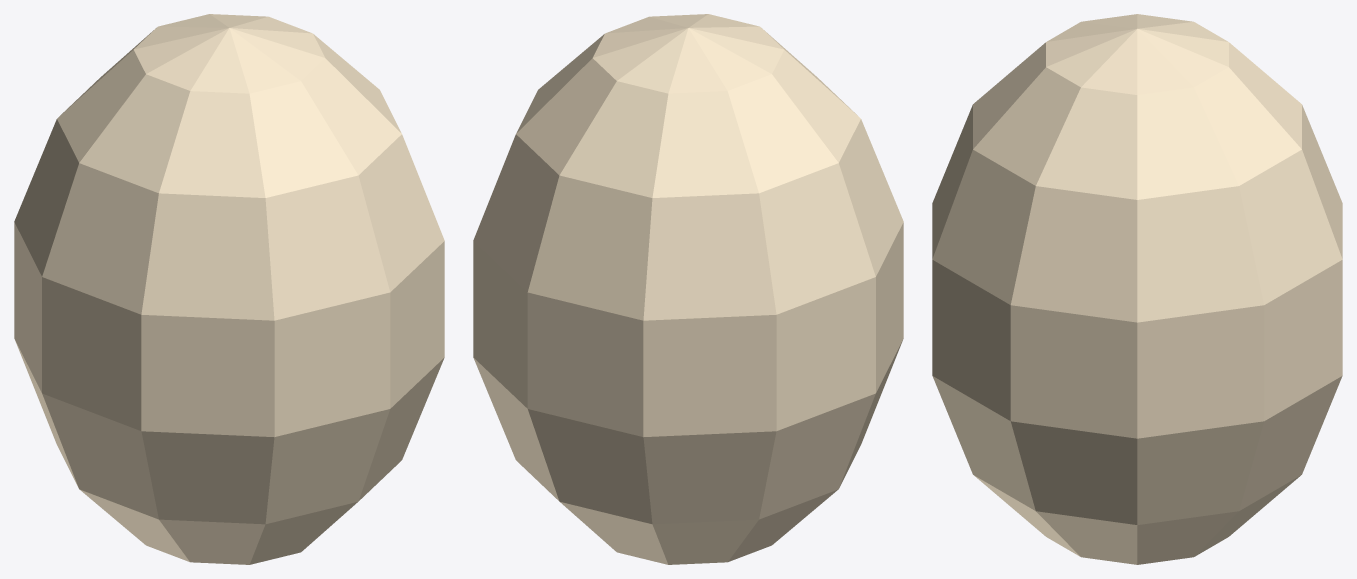
File: egg.obj
The picture shows the model from 3 angles, left to right: view 1: azimuth 30°, elevation 25°; view 2: azimuth 150°, elevation 25°; view 3: azimuth 270°, elevation 25°; orthographic projection.
Parts seen in each view (by area): view 1: item; view 2: item; view 3: item.
Boxes of the visible parts, x1,y1,x2,y2 form: item: [14, 14, 444, 564]; item: [473, 14, 903, 564]; item: [932, 14, 1342, 564].
Size of the model in its own units: 0.3314 by 0.442 by 0.3152.
